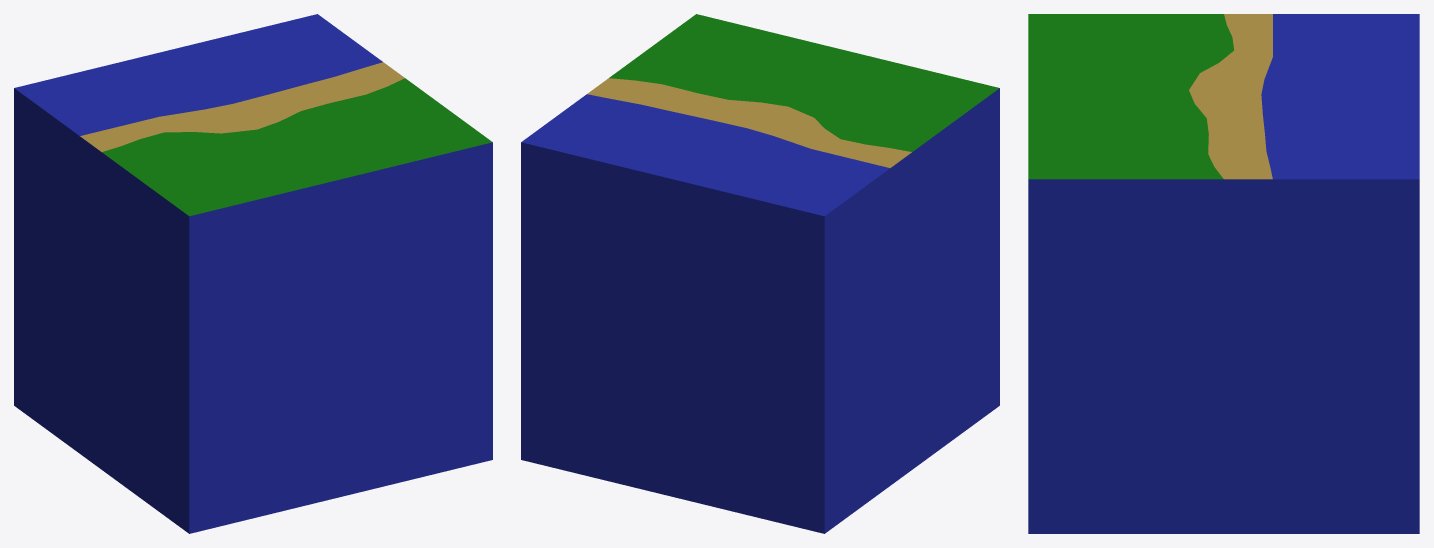
File: CoastSide2V2.fbx
3 views of the same model, side by side, from view 1: azimuth 30°, elevation 25°; view 2: azimuth 150°, elevation 25°; view 3: azimuth 270°, elevation 25° (orthographic). The views are drawn at different scales.
Parts seen in each view (by area): view 1: Cube.013; view 2: Cube.013; view 3: Cube.013.
Boxes of the visible parts, bbox=[...] form: Cube.013: bbox=[14, 14, 492, 533]; Cube.013: bbox=[521, 14, 999, 533]; Cube.013: bbox=[1028, 14, 1419, 533].
Bounding box in the file's own units: 100 × 100 × 100.
